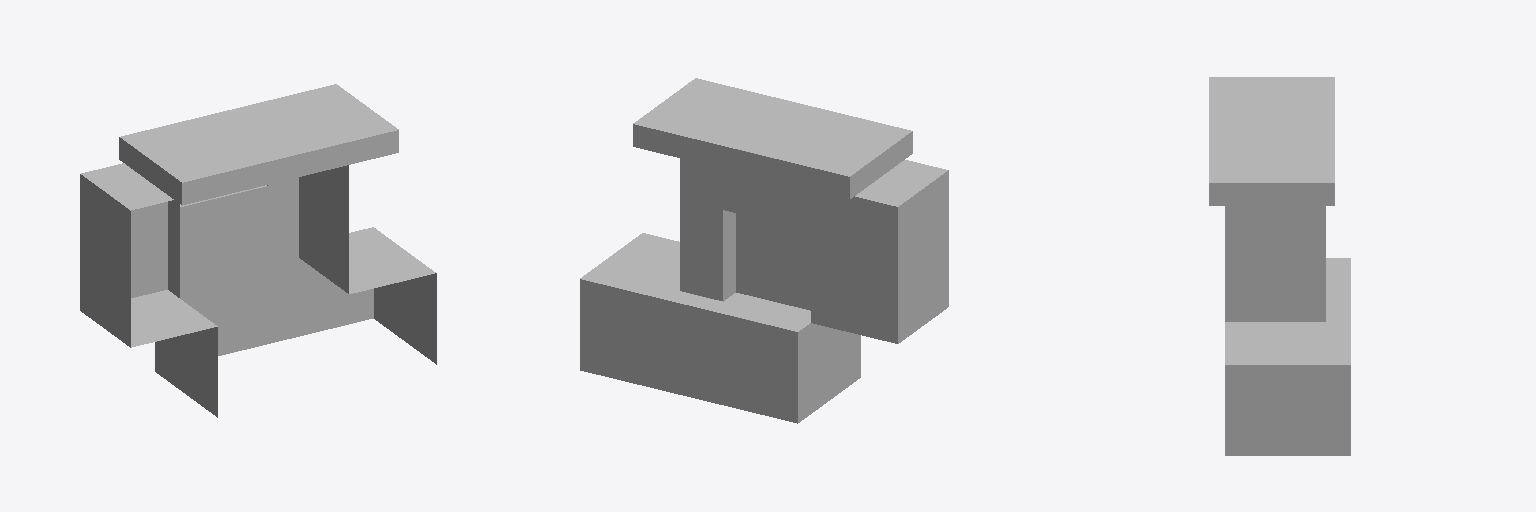
The model's file is mylandscaping_blocka_m_t.obj.
3 renders of one model, left to right at view 1: azimuth 30°, elevation 25°; view 2: azimuth 150°, elevation 25°; view 3: azimuth 270°, elevation 25°, orthographic.
Visible parts, largest first — view 1: Adaridge_M_T_Cube.001; view 2: Adaridge_M_T_Cube.001; view 3: Adaridge_M_T_Cube.001.
Part boxes in pixels (left/top/right/bottom): Adaridge_M_T_Cube.001: left=80, top=84, right=436, bottom=417; Adaridge_M_T_Cube.001: left=580, top=78, right=948, bottom=423; Adaridge_M_T_Cube.001: left=1209, top=77, right=1350, bottom=455.
Size of the model in its own units: 1.4 by 1.1 by 0.5617.